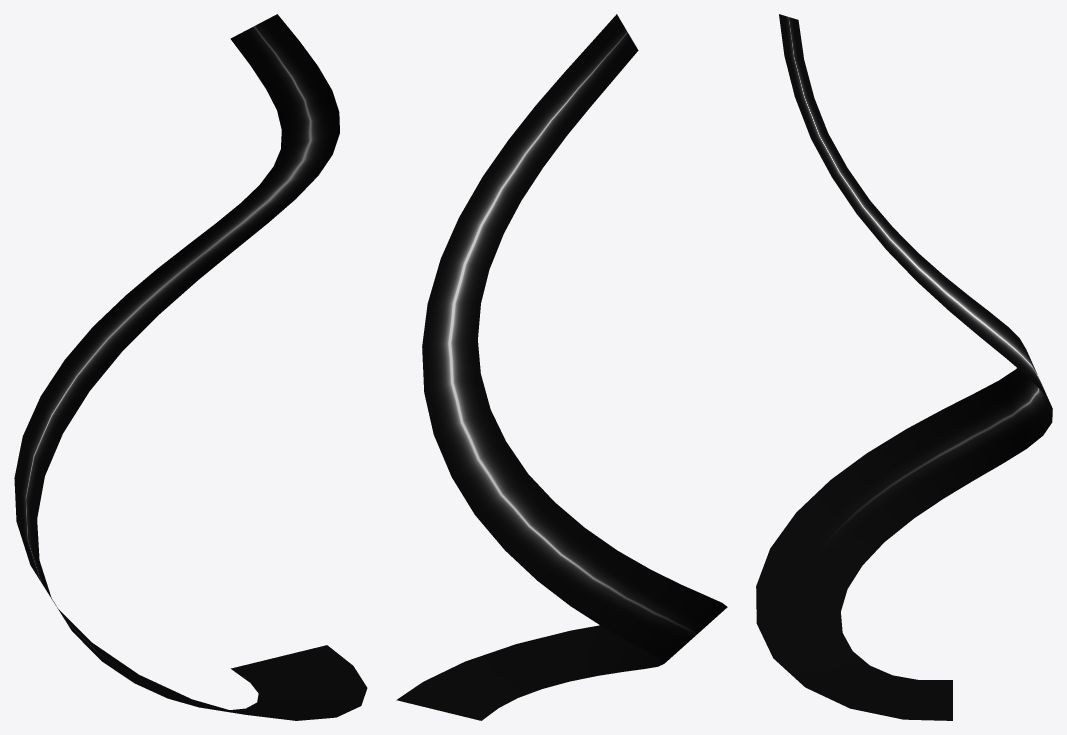
File: Mesh_tiaodai_701.FBX
3 views of the same model, side by side, from view 1: azimuth 30°, elevation 25°; view 2: azimuth 150°, elevation 25°; view 3: azimuth 270°, elevation 25° (orthographic). The views are drawn at different scales.
Parts seen in each view (by area): view 1: Plane001; view 2: Plane001; view 3: Plane001.
Boxes of the visible parts, x1=… form: Plane001: x1=14, y1=14, x2=367, y2=720; Plane001: x1=396, y1=14, x2=727, y2=720; Plane001: x1=756, y1=14, x2=1052, y2=720.
Size of the model in its own units: 126 by 276 by 116.
1 material, 1 textured.
